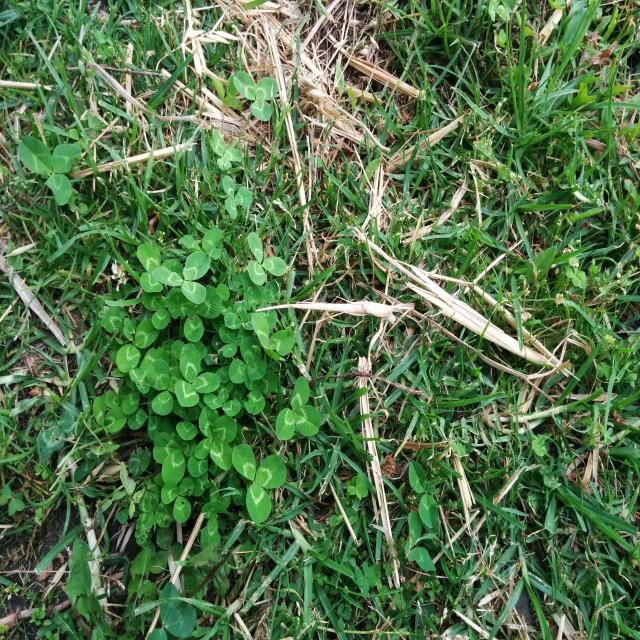Four Leaf Clover: (194, 405, 237, 470)
